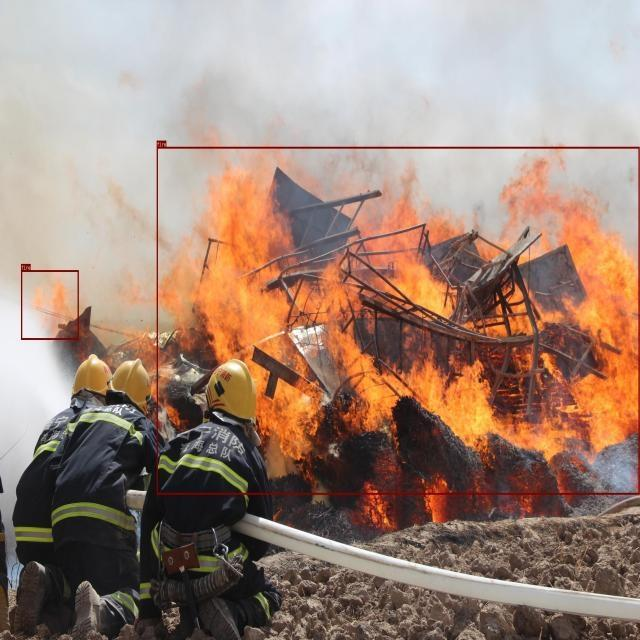fire: (157, 147, 639, 494), (21, 270, 78, 339)
